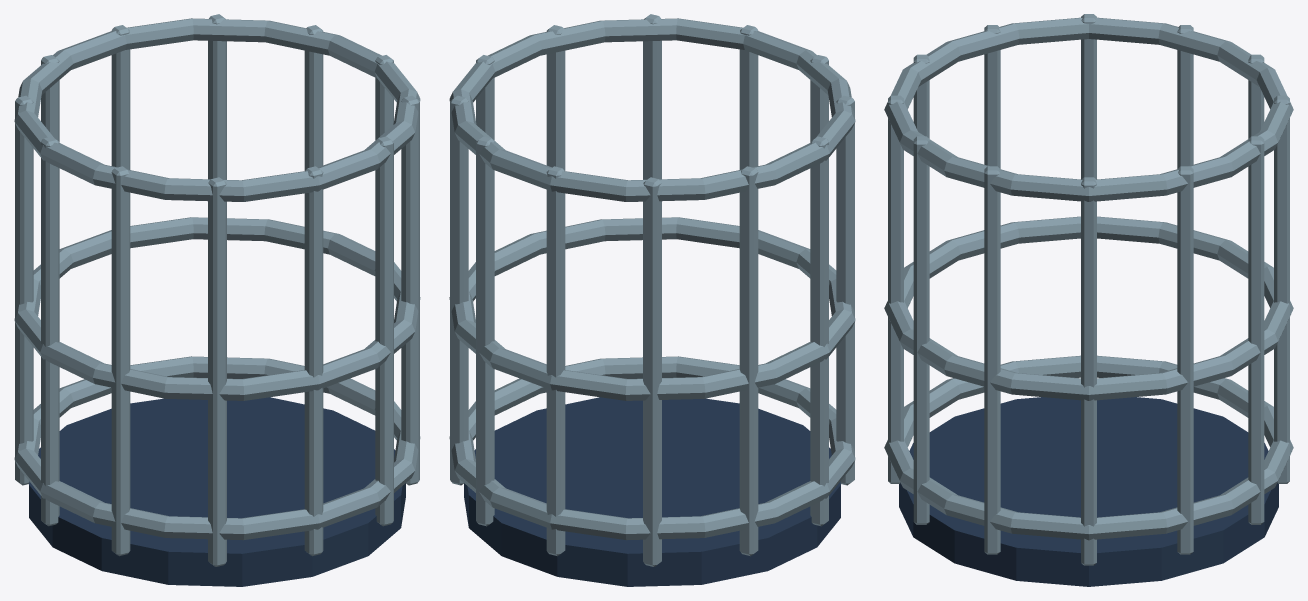
The model's file is wire_waste_basket.glb.
3 renders of one model, left to right at view 1: azimuth 30°, elevation 25°; view 2: azimuth 150°, elevation 25°; view 3: azimuth 270°, elevation 25°, orthographic.
Parts seen in each view (by area): view 1: basket_upright (×12), basket_hoop (×3), basket_base; view 2: basket_upright (×12), basket_hoop (×3), basket_base; view 3: basket_hoop (×3), basket_upright (×12), basket_base.
Part boxes in pixels (x1=…): basket_upright (×12): x1=15, y1=14, x2=419, y2=566; basket_hoop (×3): x1=14, y1=18, x2=420, y2=540; basket_base: x1=29, y1=397, x2=405, y2=586; basket_upright (×12): x1=450, y1=14, x2=854, y2=566; basket_hoop (×3): x1=449, y1=18, x2=855, y2=540; basket_base: x1=464, y1=397, x2=840, y2=586; basket_hoop (×3): x1=884, y1=17, x2=1293, y2=540; basket_upright (×12): x1=888, y1=14, x2=1289, y2=565; basket_base: x1=899, y1=397, x2=1278, y2=586.
Bounding box in the file's own units: 0.28 × 0.3085 × 0.28.
